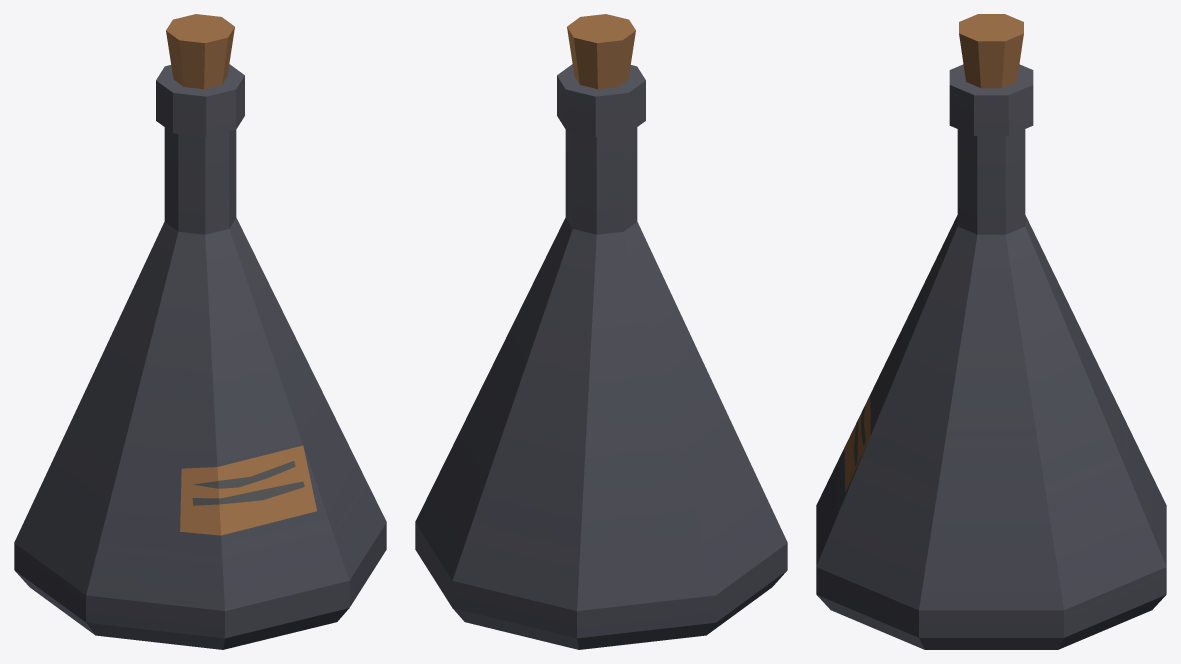
Rendered from Potion_08.glb.
3 views of the same model, side by side, from view 1: azimuth 30°, elevation 25°; view 2: azimuth 150°, elevation 25°; view 3: azimuth 270°, elevation 25° (orthographic).
Parts seen in each view (by area): view 1: Potion_08_LOD0; view 2: Potion_08_LOD0; view 3: Potion_08_LOD0.
Boxes of the visible parts, box(x1,y1,x2,y2) form: Potion_08_LOD0: box(14, 14, 386, 649); Potion_08_LOD0: box(415, 14, 787, 649); Potion_08_LOD0: box(816, 14, 1166, 649).
Size of what is drawn, in the model's own units: 0.146 by 0.2547 by 0.146.
1 material, 1 textured.
